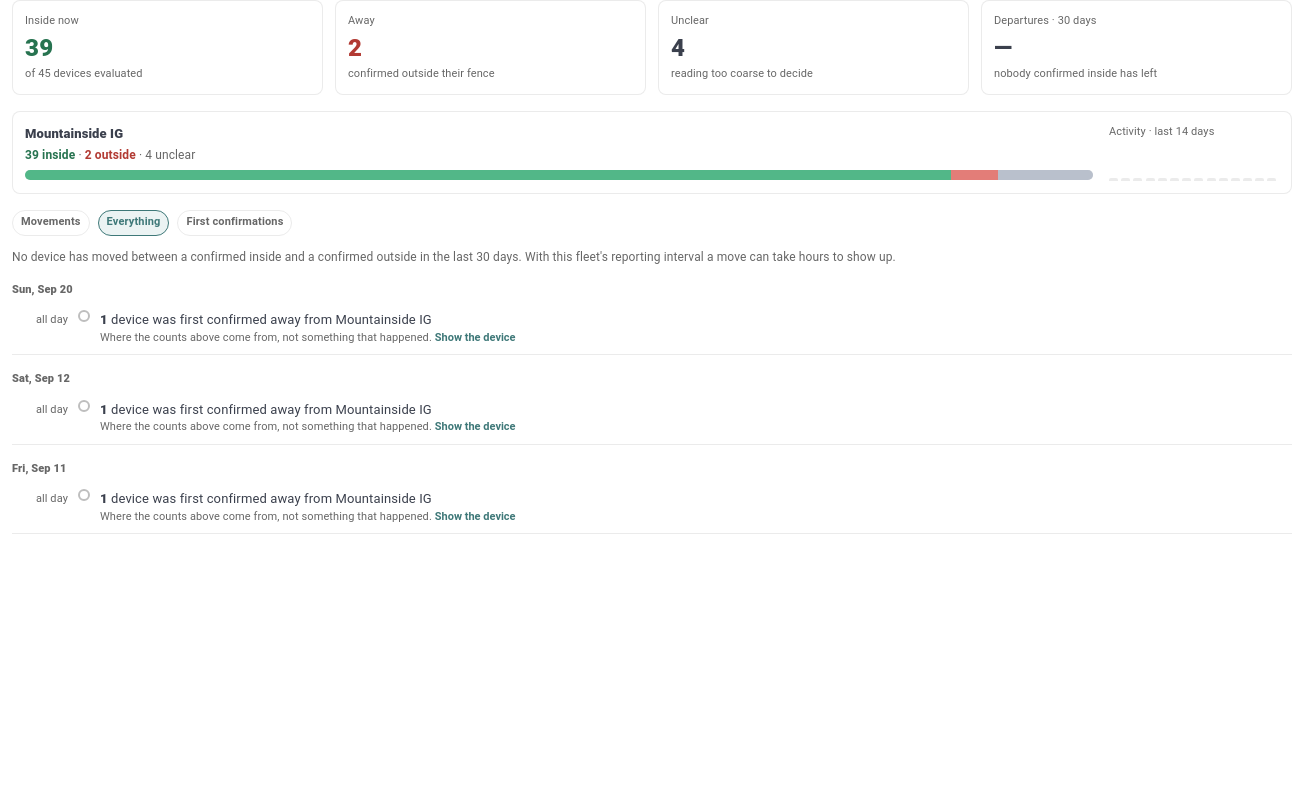
Test: RecentTransitions › ⭐ lo que se despliega es lo de ESE día, no lo de toda la ventana
Click the 1st button "Show the device": (475, 338) [435,330,516,346]
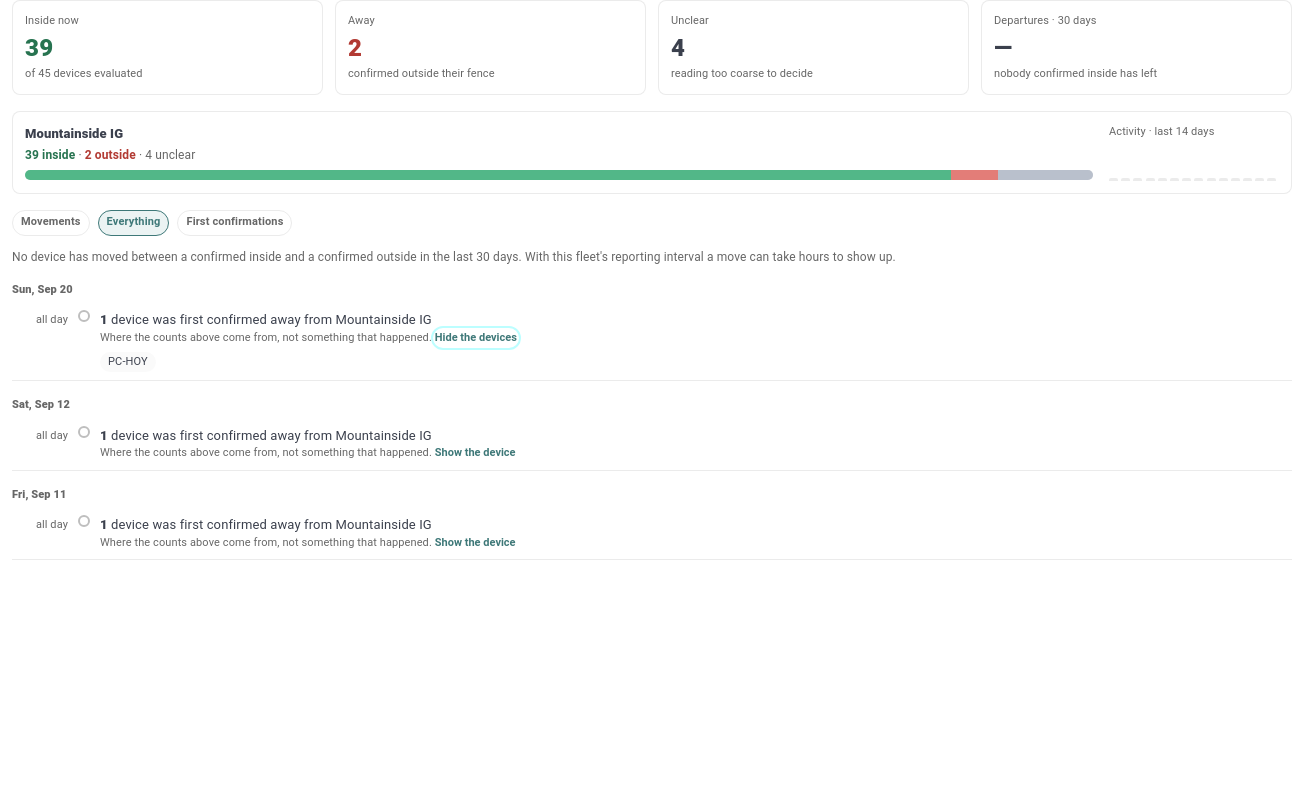
Expected: the text "PC-HOY" is shown, [108,355,148,368]
